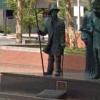Statue: (28, 5, 79, 75)
